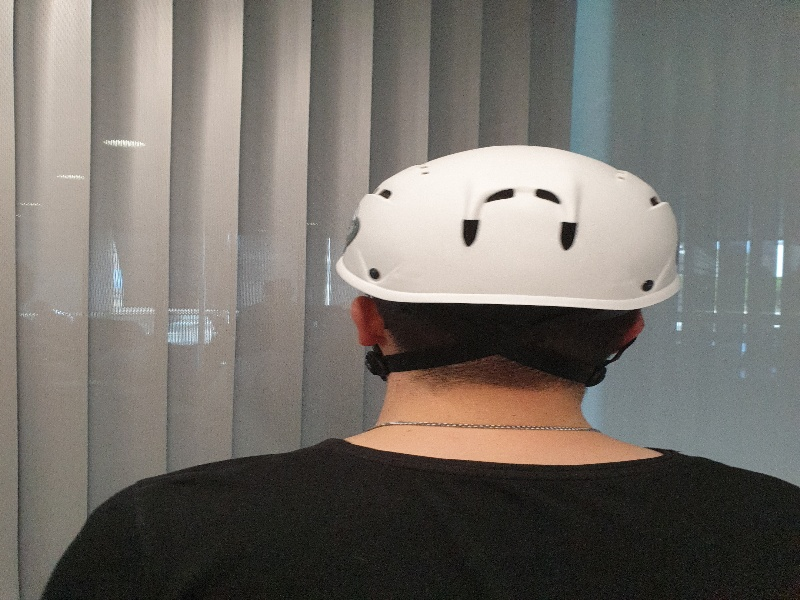Baret: (335, 145, 686, 308)
